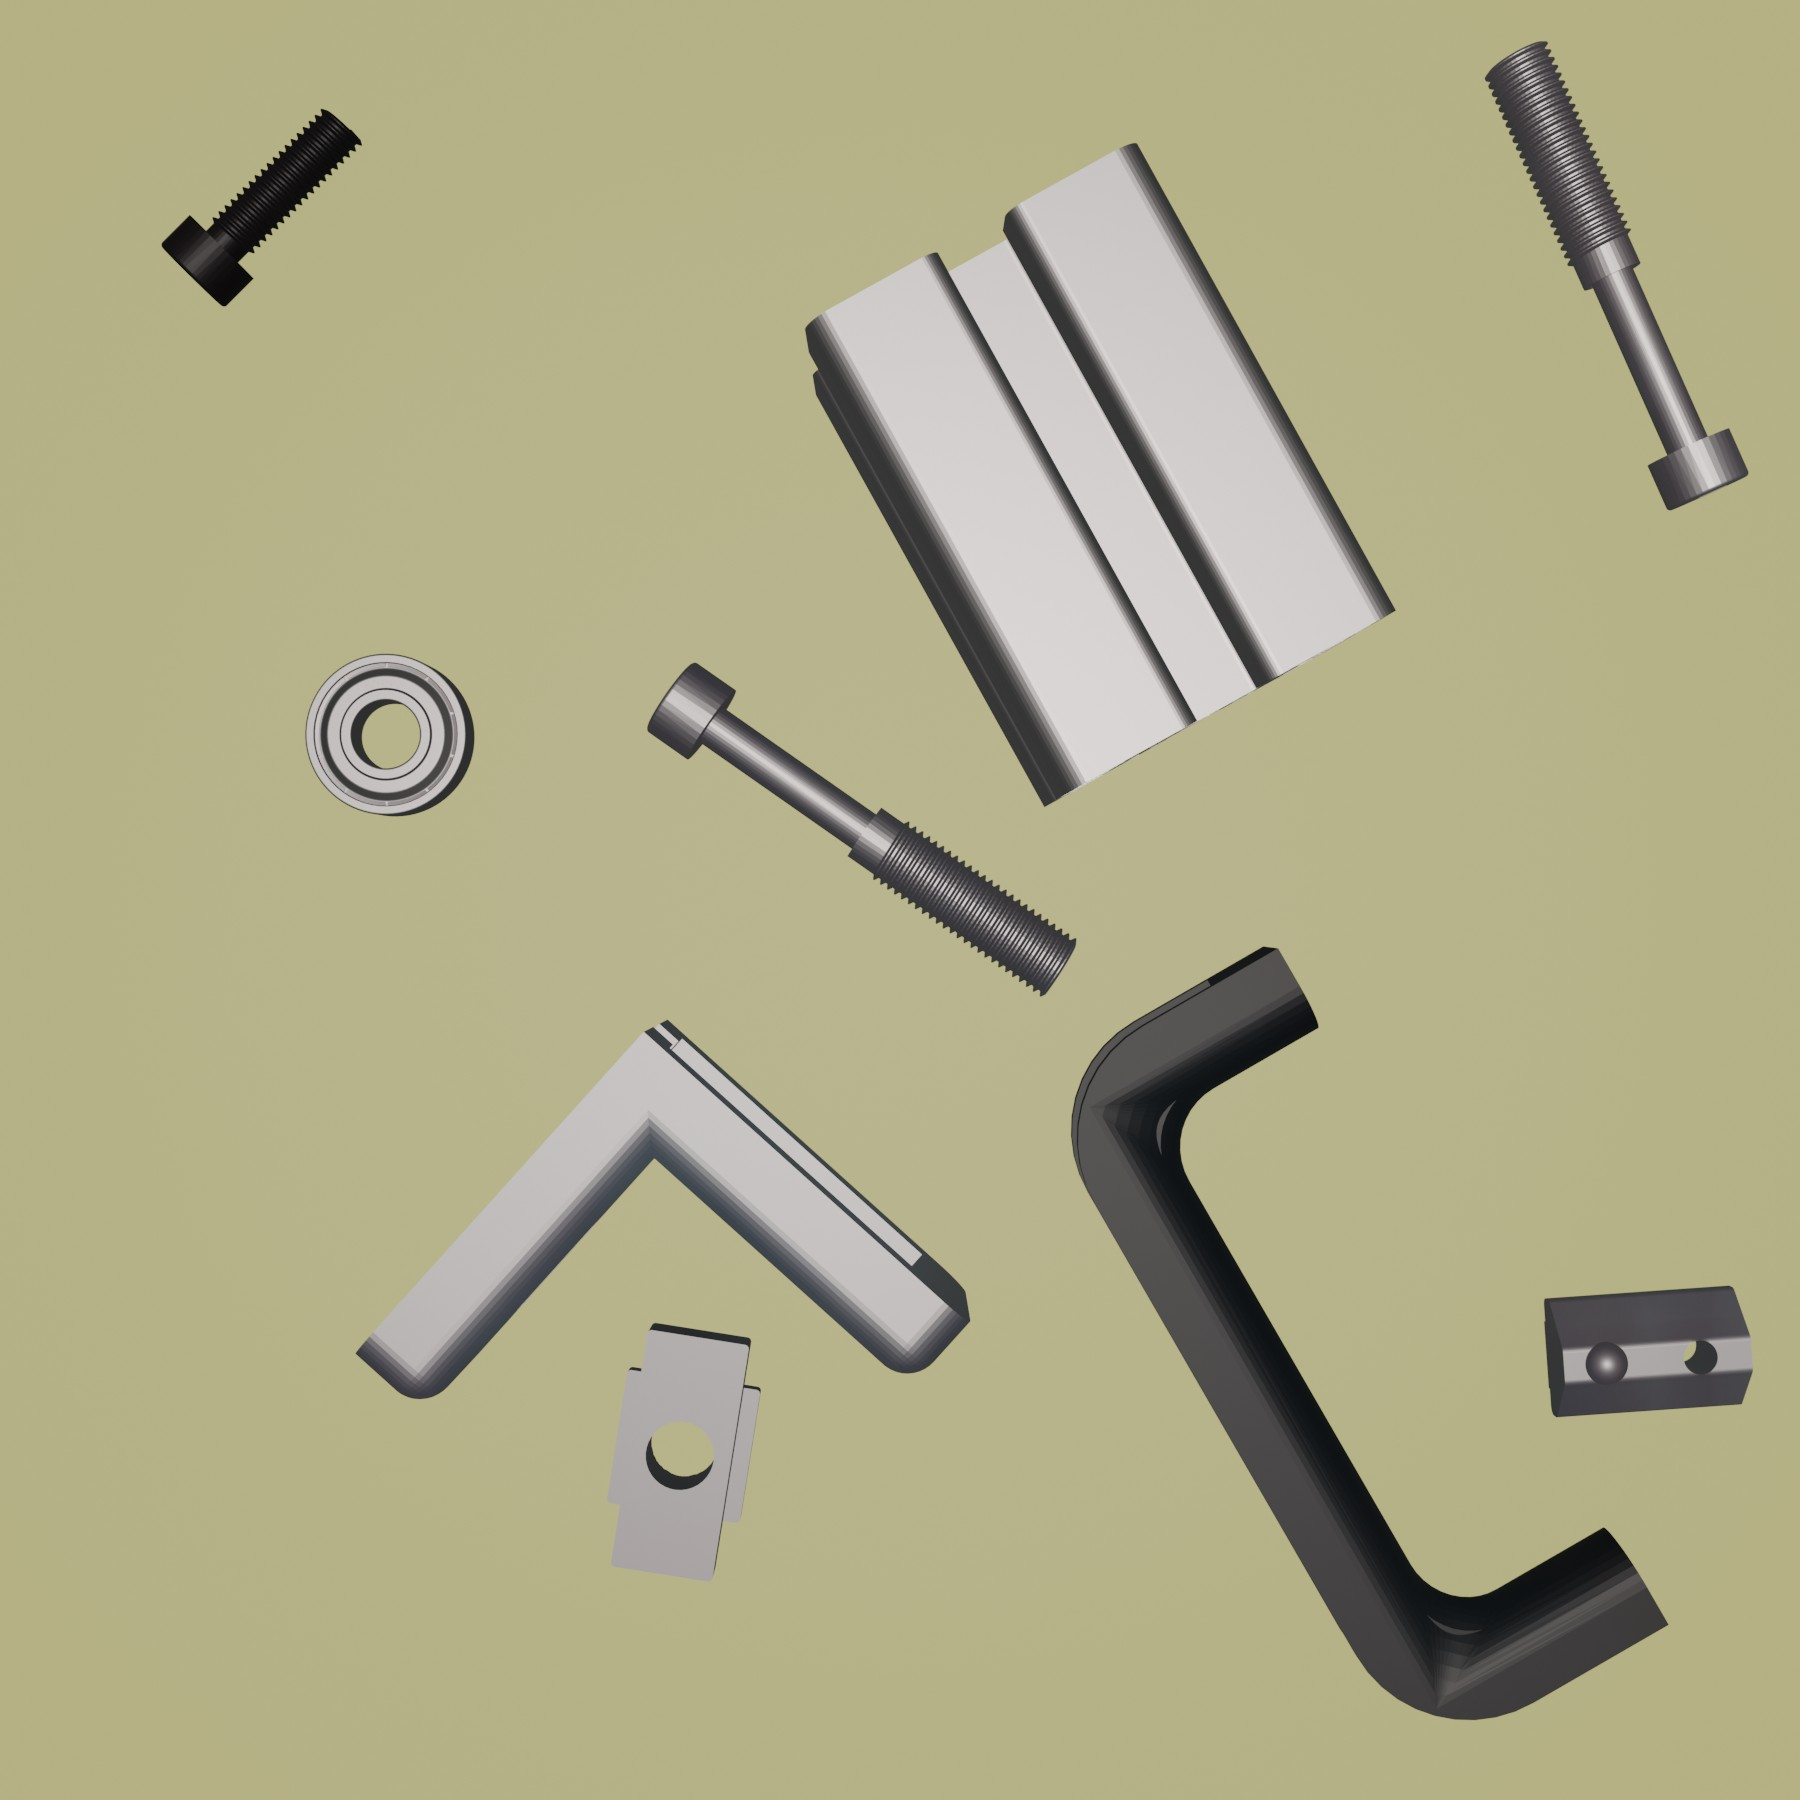Aluminium Extension: (803, 142, 1398, 808)
Ball Bearing: (303, 651, 476, 819)
Multiwinkel: (354, 1019, 971, 1399)
Pull Handle: (1070, 948, 1670, 1723)
Shoulder Socket Head Cap Screw: (641, 659, 1080, 996), (1485, 40, 1752, 514)
Socket Head Cap Screw: (158, 107, 368, 307)
T Nut Square: (603, 1320, 765, 1584)
T Spring Nut: (1543, 1281, 1755, 1419)
